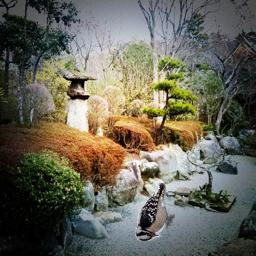Woodpecker: (135, 183, 175, 241)
